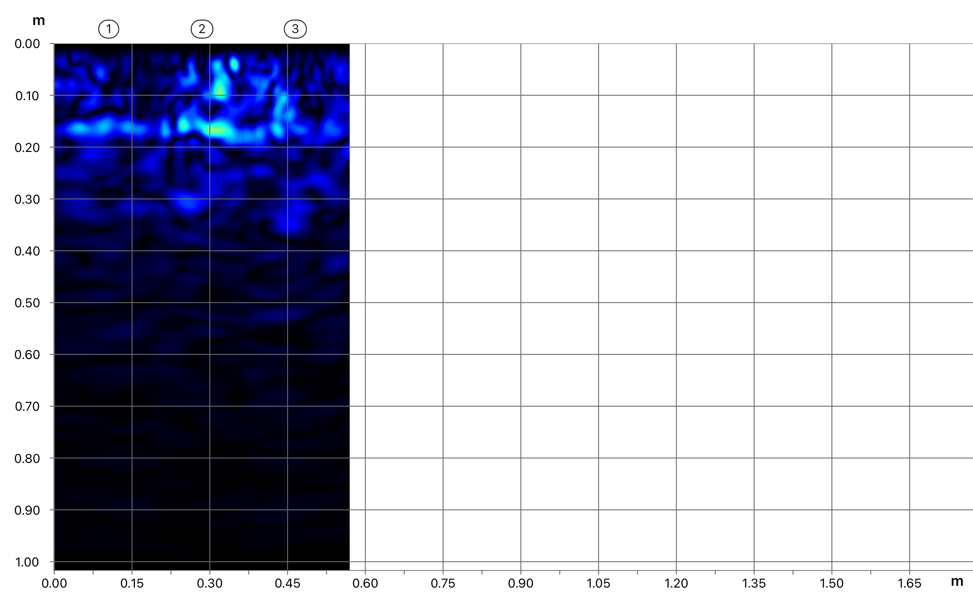crop: (3, 0, 350, 329)
